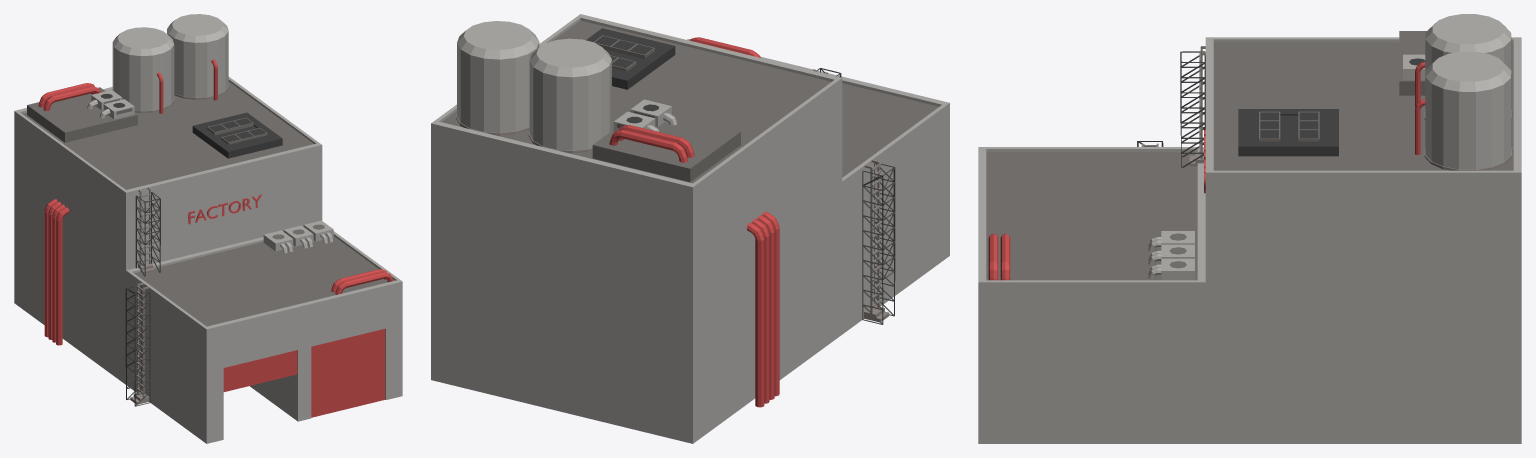
Rendered from Factory_03.fbx.
3 renders of one model, left to right at view 1: azimuth 30°, elevation 25°; view 2: azimuth 150°, elevation 25°; view 3: azimuth 270°, elevation 25°, orthographic. The views are drawn at different scales.
Visible parts, largest first — view 1: Factory_03; view 2: Factory_03; view 3: Factory_03.
Part boxes in pixels (bbox=[...]): Factory_03: bbox=[14, 14, 402, 443]; Factory_03: bbox=[431, 14, 949, 443]; Factory_03: bbox=[978, 14, 1521, 443].
Bounding box in the file's own units: 23.72 × 26.99 × 37.37.
